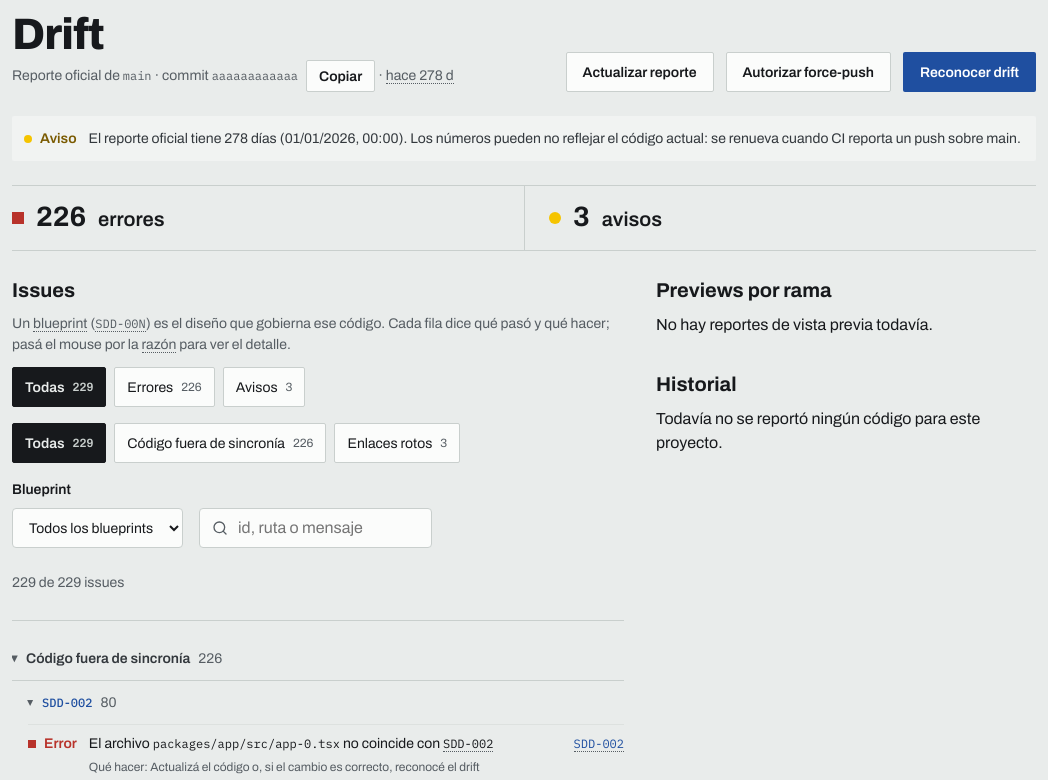
it: DriftDashboard · triage (SDD-061) › combines severity, kind, blueprint and query as an intersection
Step 1. Click the button "226 errores" → (61, 216), box [12,186,524,250]
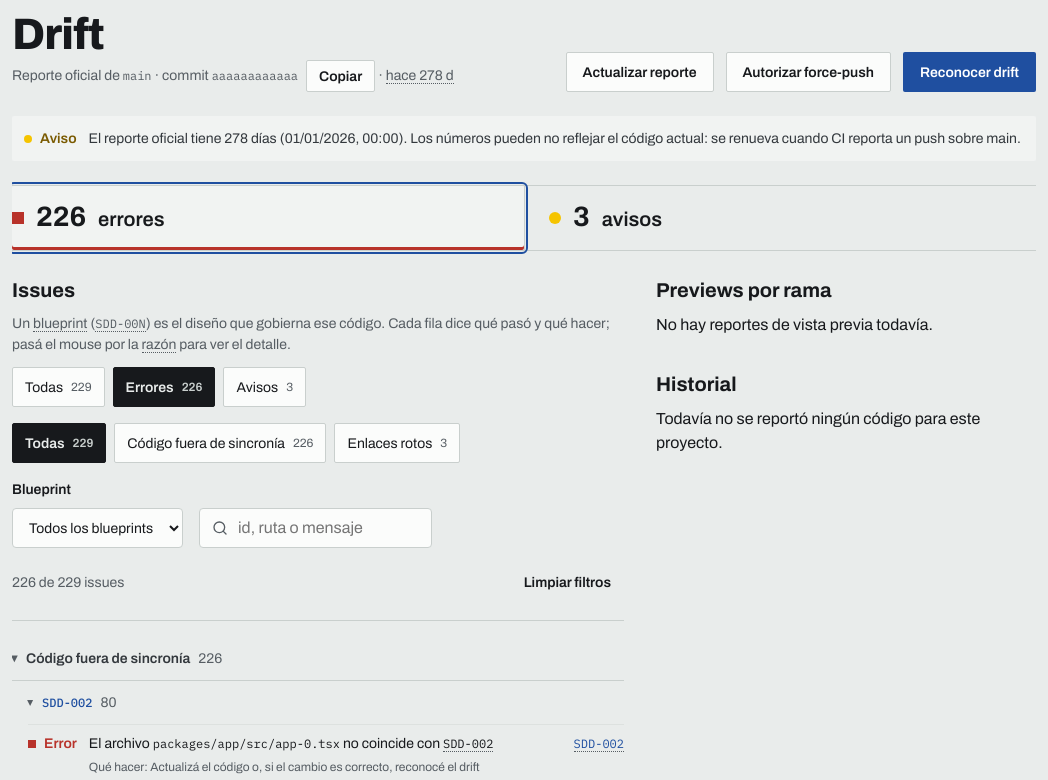
Step 2. Click the radio button labelled "Código fuera de sincronía 226" → (220, 443), box [114,423,326,463]
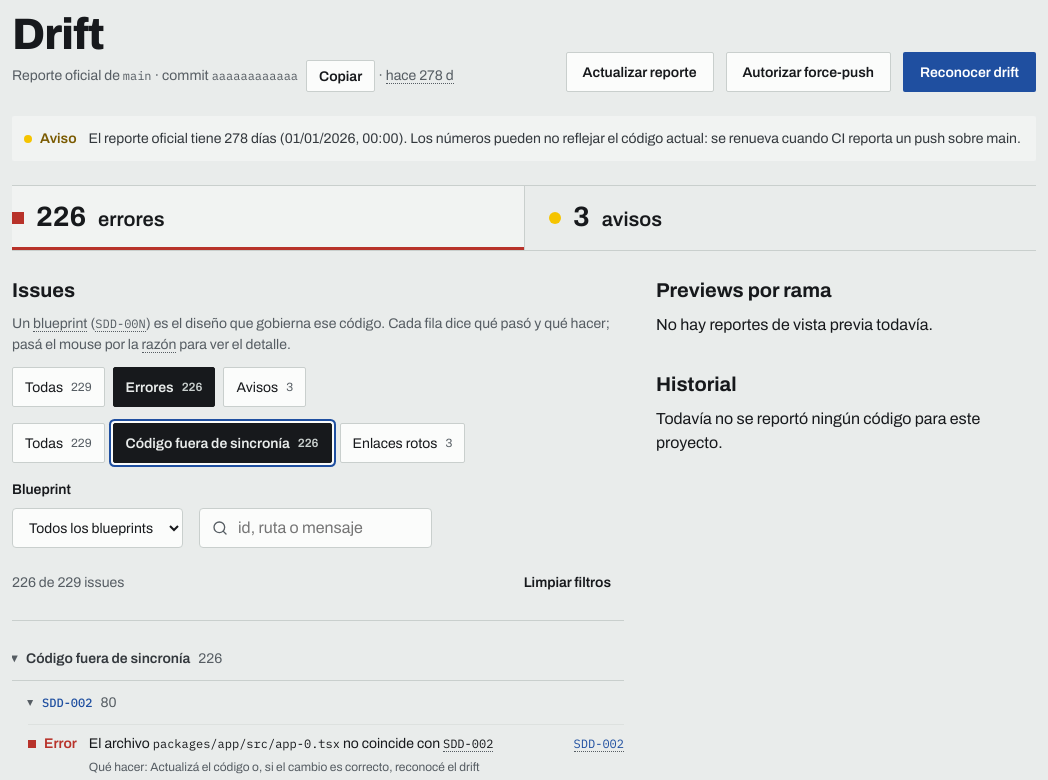
Step 3. Select "SDD-010" in the dropdown labelled "Blueprint" → (98, 528), box [12,508,183,548]
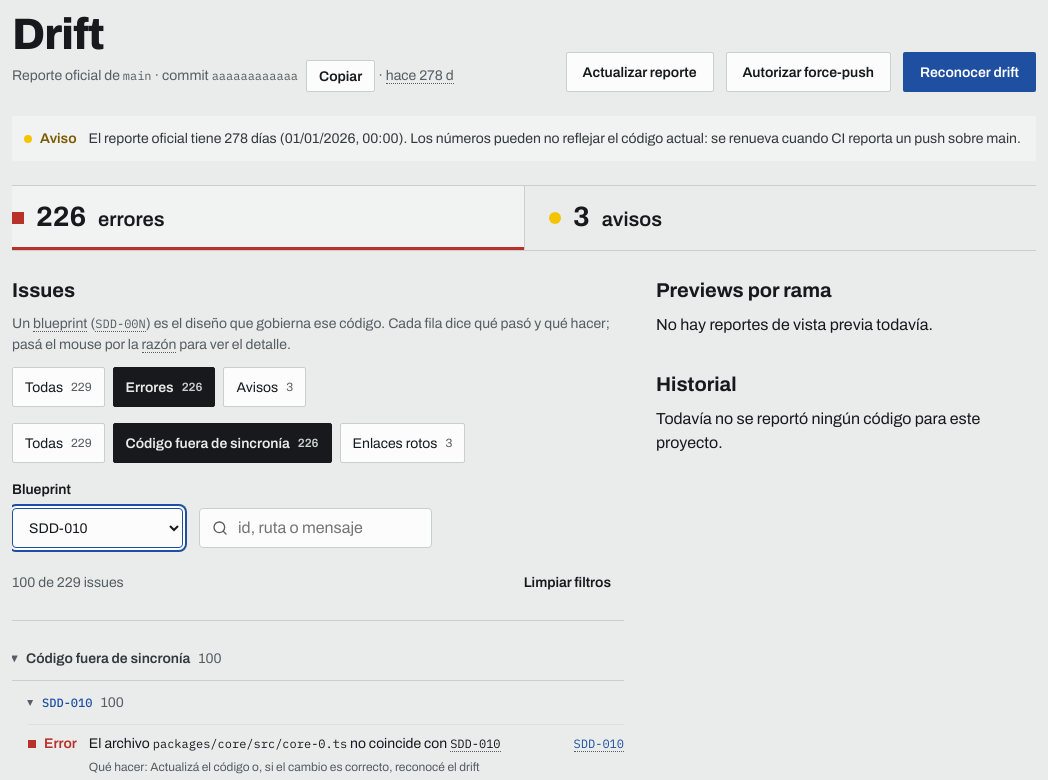
Step 4. Type "core-77.ts" into the search field named "Buscar en los issues" → (330, 528), box [236,515,423,541]
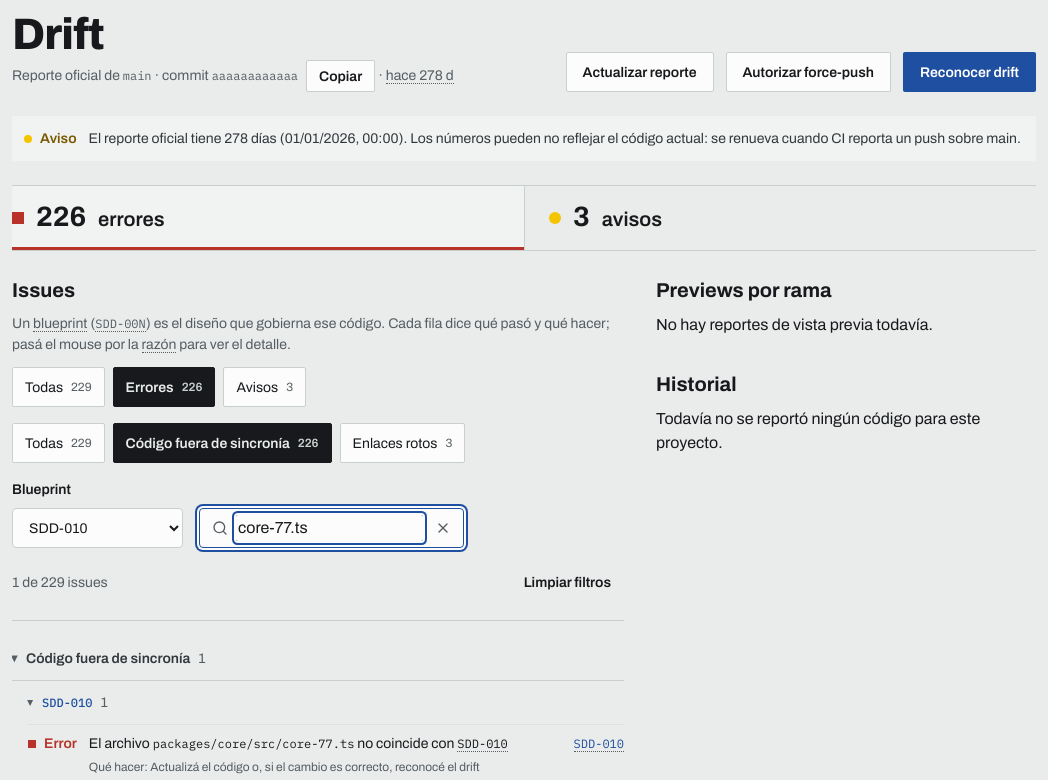
Result: the button "Limpiar filtros" is shown at [511,566,624,598]
Result: the element named "Issues de drift" shows "core-77.ts" at [153,736,354,751]
